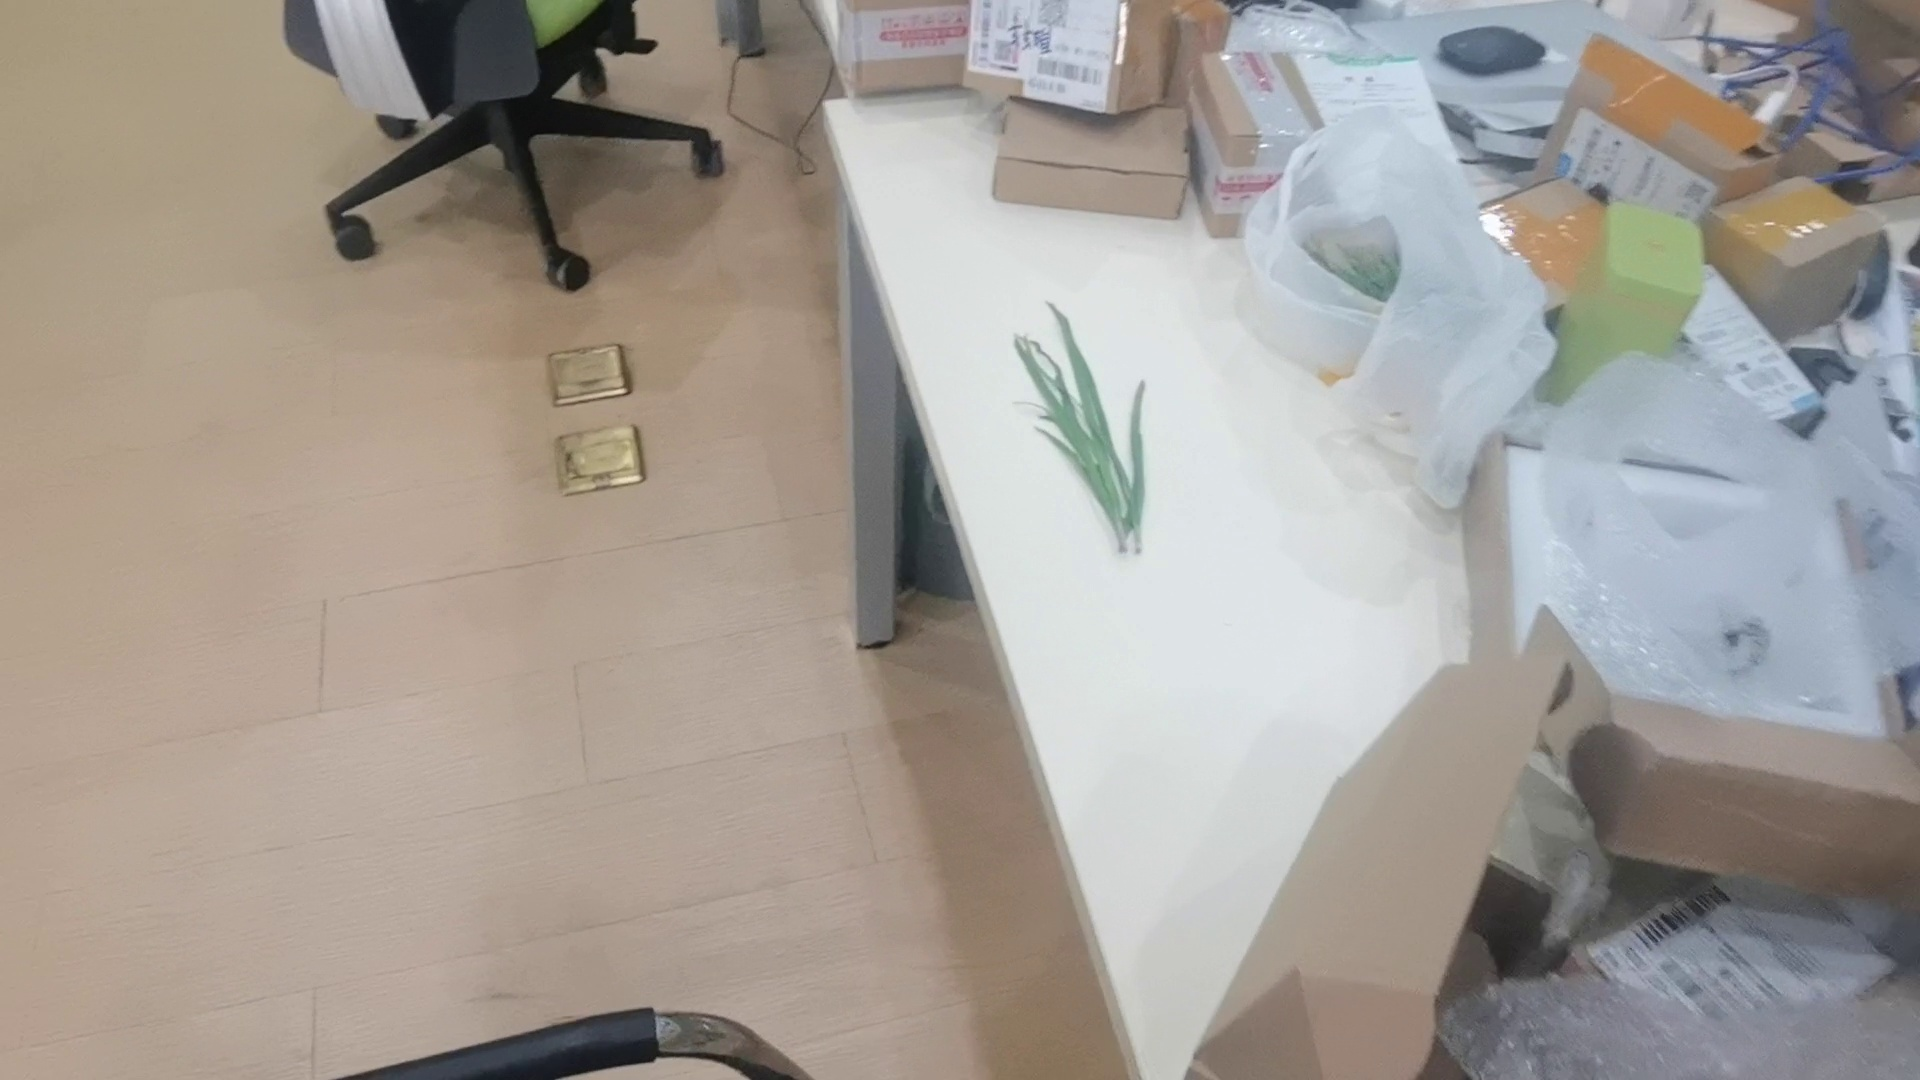chives: (1007, 284, 1164, 563)
